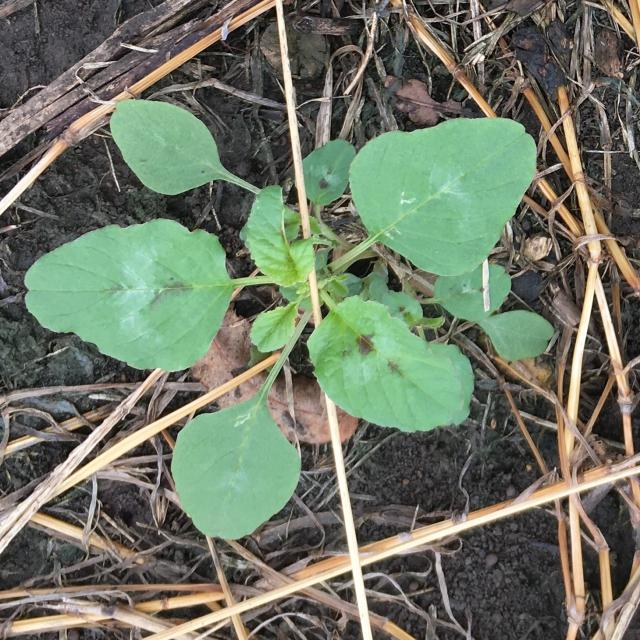PalmerAmaranth: (23, 99, 554, 541)
